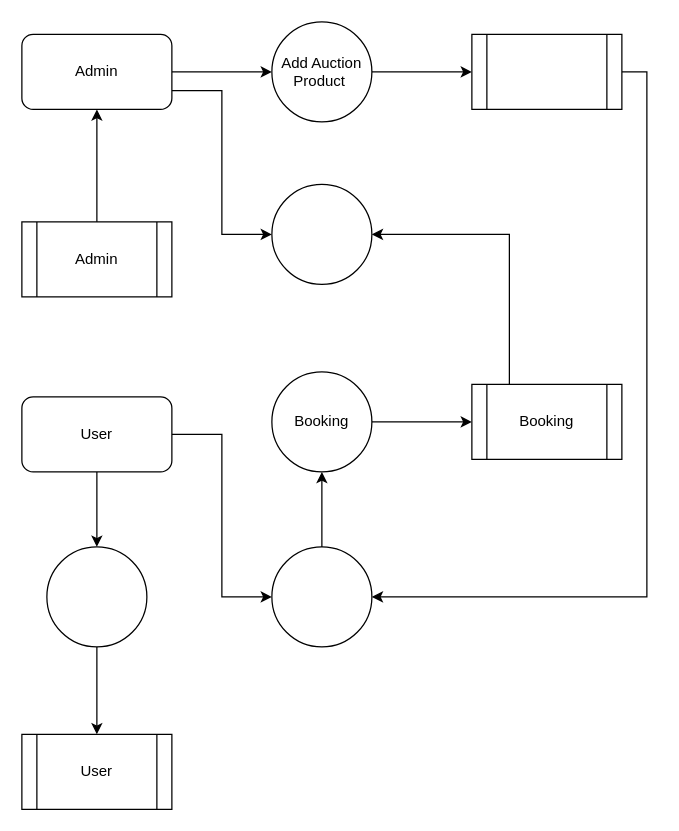
This 679x831 diagram has some shape labels left out. The box of each missing label's shape, as (x1, y1, x2, y2) in pixels:
Bidding Details: (271, 183, 372, 284)
Product: (471, 33, 622, 109)
Registration: (46, 546, 147, 647)
View Auction Details: (271, 546, 372, 647)
